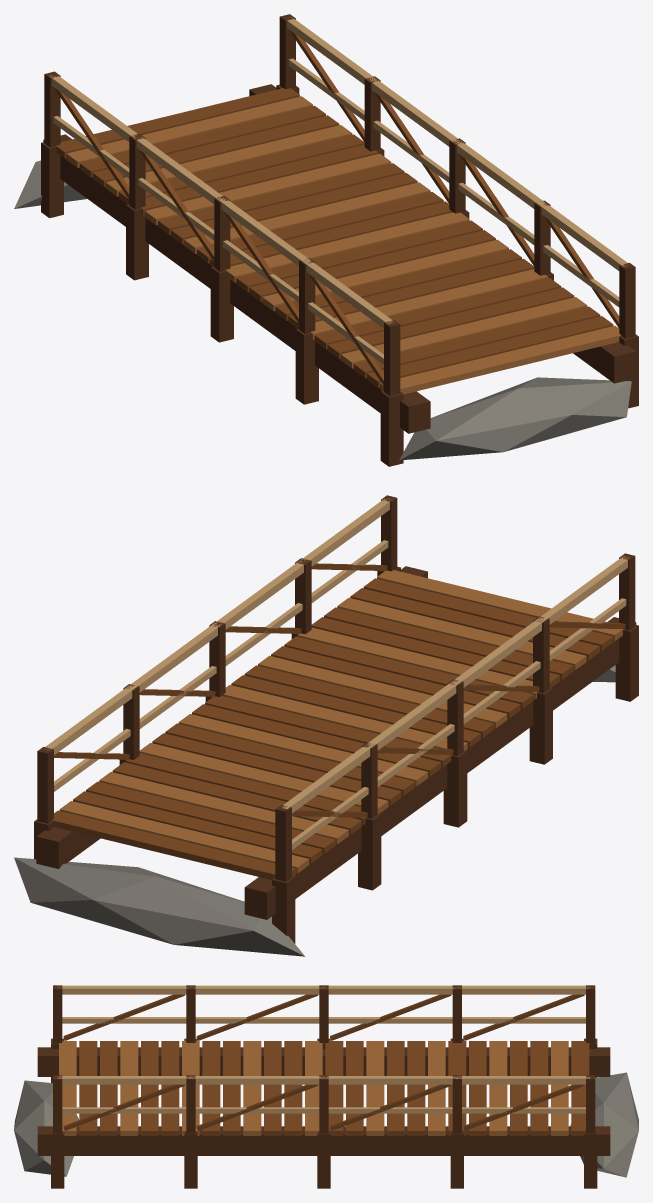
The model's file is Nature_Bridge.fbx.
3 renders of one model, top to bottom at view 1: azimuth 30°, elevation 25°; view 2: azimuth 150°, elevation 25°; view 3: azimuth 270°, elevation 25°, orthographic. The views are drawn at different scales.
Parts seen in each view (by area): view 1: Nature_Bridge; view 2: Nature_Bridge; view 3: Nature_Bridge.
Part boxes in pixels (<box>): Nature_Bridge: <box>14,14,638,466</box>; Nature_Bridge: <box>14,495,638,956</box>; Nature_Bridge: <box>14,985,638,1188</box>.
Bounding box in the file's own units: 3.92 × 1.88 × 9.38.
